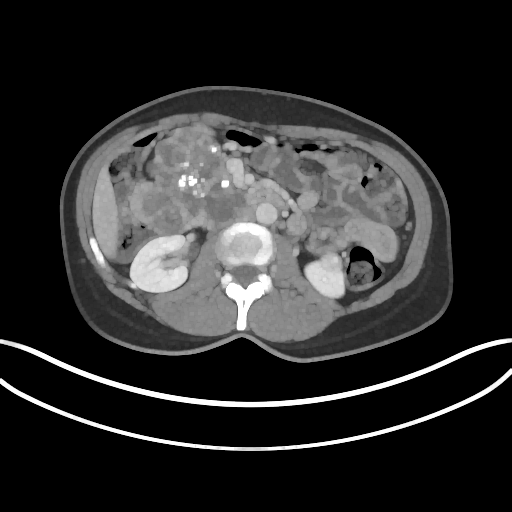Lesion: (318, 250, 343, 271)
